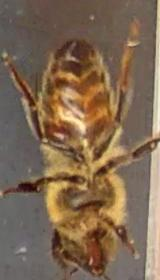varroa_mite: (34, 114, 78, 158)
